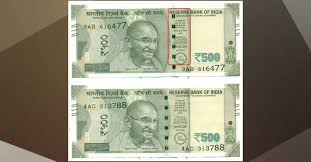fiveHundred: (78, 16, 231, 67), (80, 95, 227, 145)
